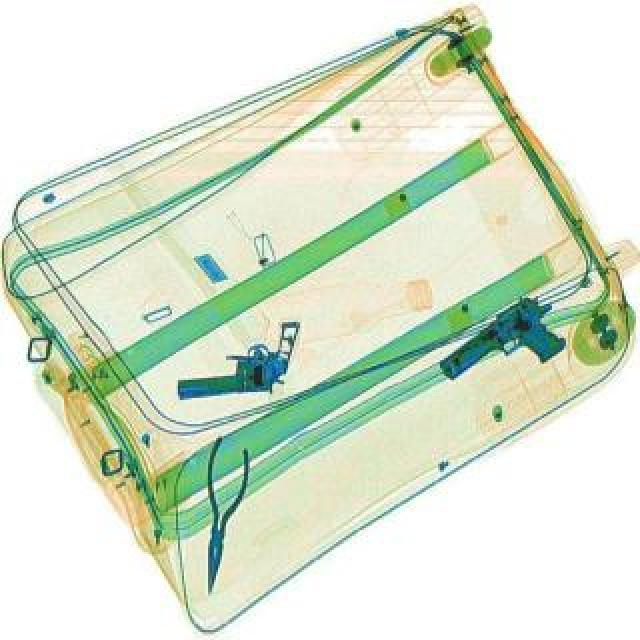gun: (436, 290, 584, 416), (172, 322, 306, 404)
wrench: (194, 438, 254, 600)
